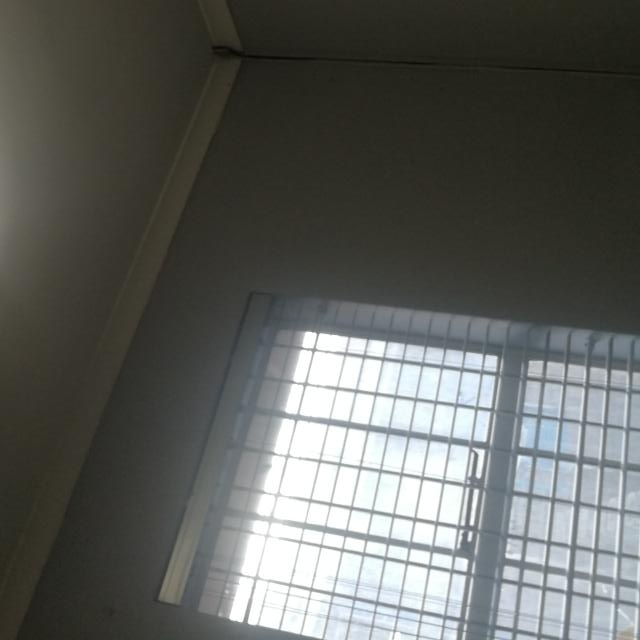fluorescent tube: (0, 0, 31, 319)
